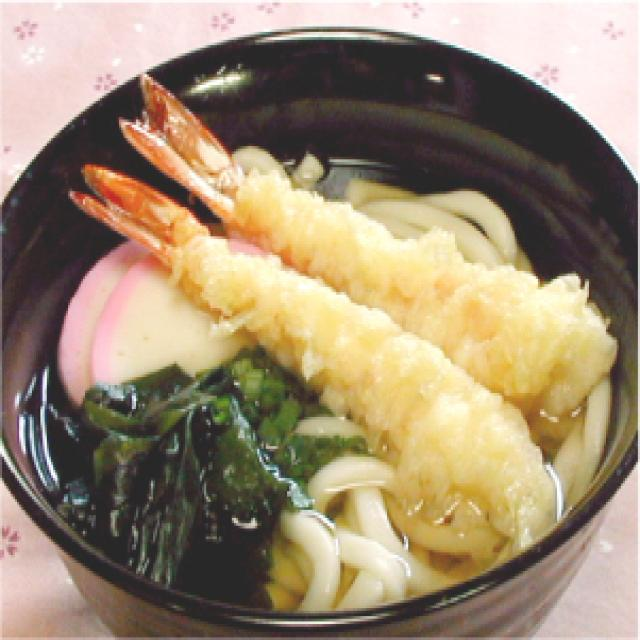面条主食: (30, 156, 640, 640)
